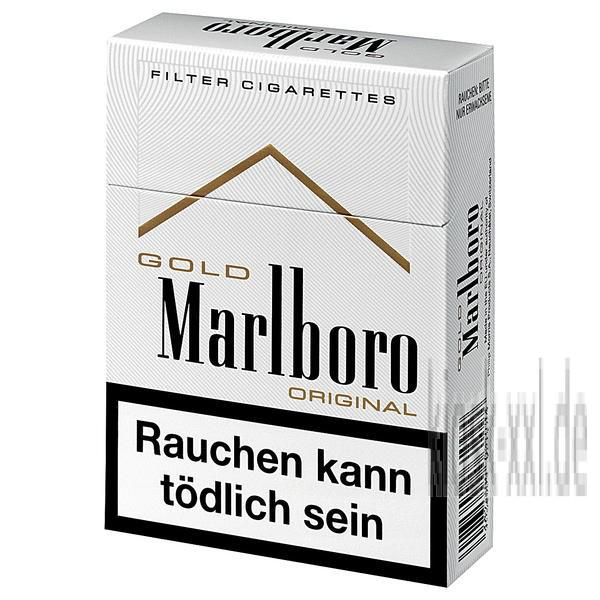marlboro_gold: (105, 66, 445, 532)
